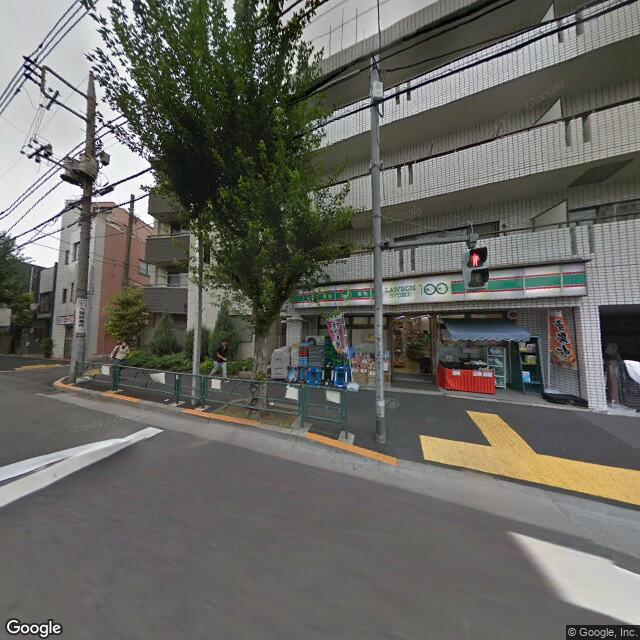lawson: (290, 258, 590, 315)
